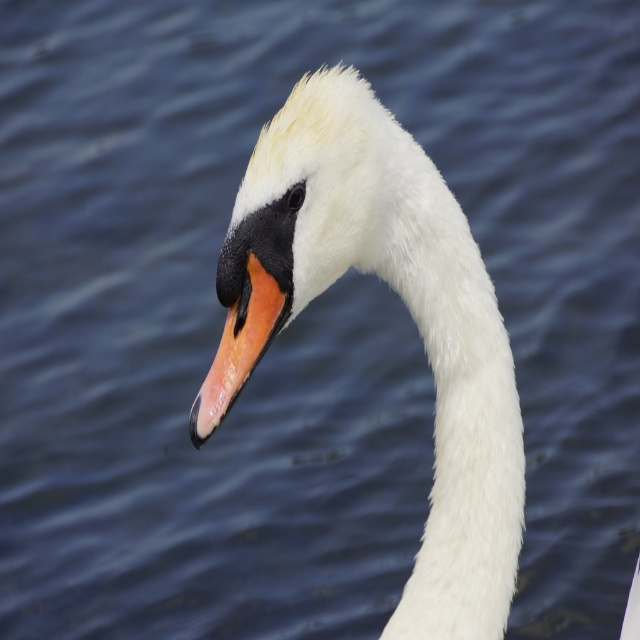Duck: (165, 53, 541, 607)
